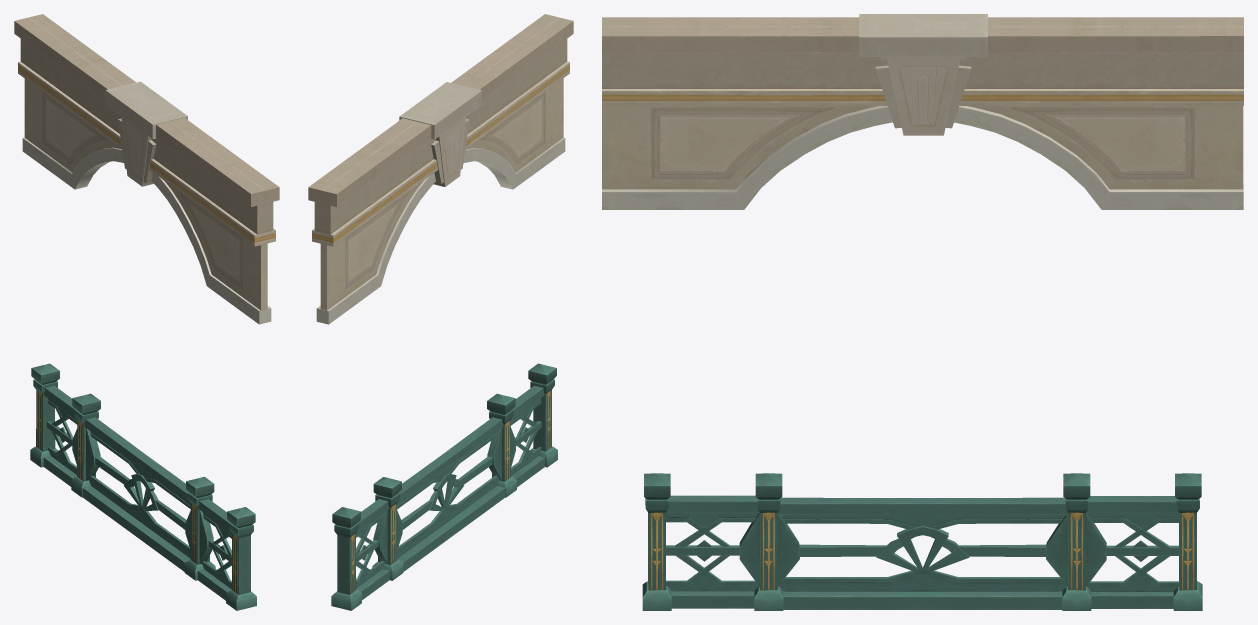
The model's file is Homeworld_Interior_Fd_Room_Wall_05_Vo.fbx.
3 views of the same model, side by side, from view 1: azimuth 30°, elevation 25°; view 2: azimuth 150°, elevation 25°; view 3: azimuth 270°, elevation 25° (orthographic). The views are drawn at different scales.
Visible parts, largest first — view 1: Homeworld_Interior_Fd_Room_Wall_05_Vo; view 2: Homeworld_Interior_Fd_Room_Wall_05_Vo; view 3: Homeworld_Interior_Fd_Room_Wall_05_Vo.
Boxes of the visible parts, x1,y1,x2,y2 form: Homeworld_Interior_Fd_Room_Wall_05_Vo: (14, 14, 279, 610); Homeworld_Interior_Fd_Room_Wall_05_Vo: (308, 14, 573, 610); Homeworld_Interior_Fd_Room_Wall_05_Vo: (602, 14, 1243, 610).
Size of the model in its own units: 0.4298 by 5 by 5.
